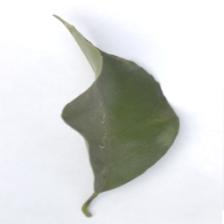healthy: (51, 14, 182, 193)
